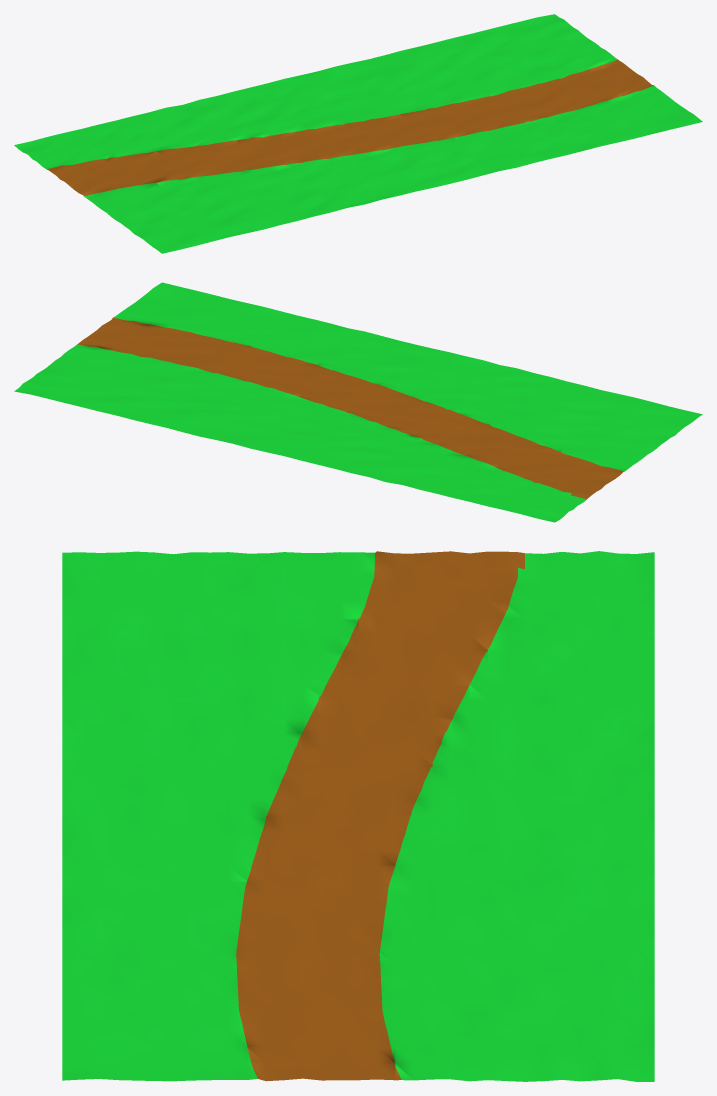
File: Terrain02_Mapa08_DBZ.FBX
3 views of the same model, one above another, from view 1: azimuth 30°, elevation 25°; view 2: azimuth 150°, elevation 25°; view 3: azimuth 270°, elevation 25° (orthographic). The views are drawn at different scales.
Parts seen in each view (by area): view 1: Plane008; view 2: Plane008; view 3: Plane008.
Part boxes in pixels (box(x1,y1,x2,y2)): Plane008: box(14, 14, 702, 253); Plane008: box(14, 282, 702, 522); Plane008: box(62, 551, 654, 1081).
Size of the model in its own units: 1830 by 6.11 by 868.
